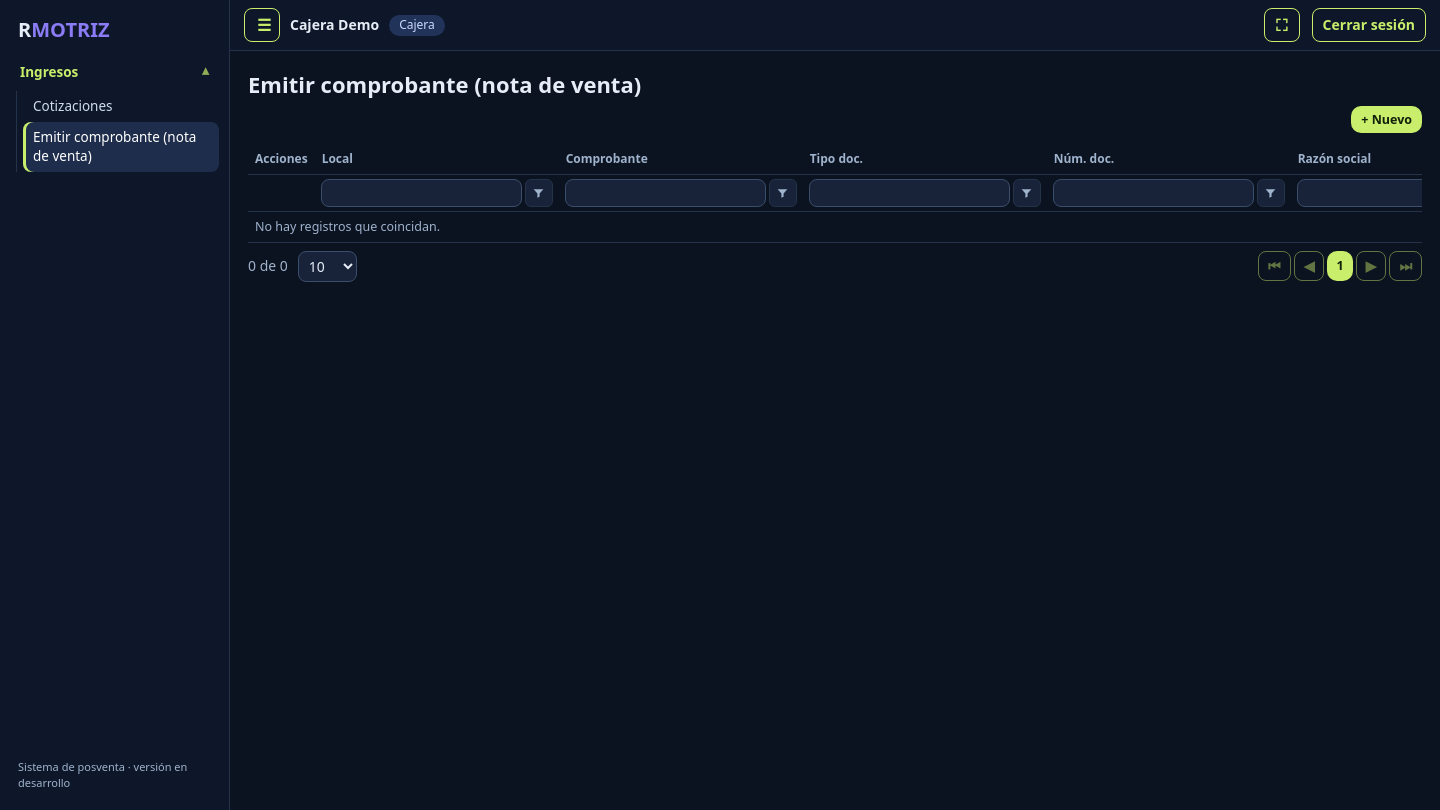
Test: Emitir comprobante: carga los ítems de una cotización vigente, con su cliente
Step 1. Click the button "+ Nuevo" → [1387, 120], box top-left (1351, 106), bottom-right (1422, 133)
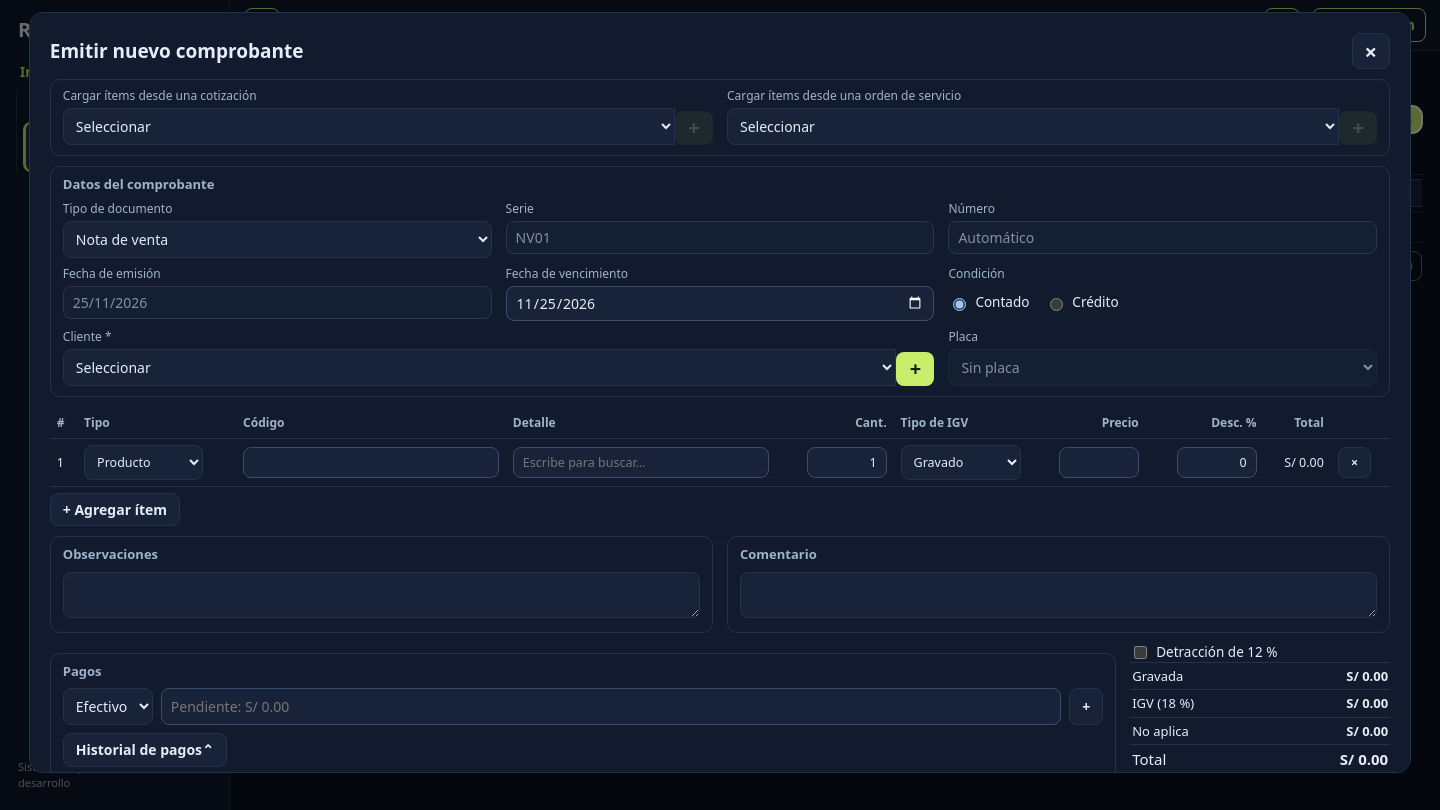
Step 2. Select "COT-000001 · JOAQUIN DEL CARPIO · S/ 118.00" in the dropdown labelled "Cargar ítems desde una cotización" → [369, 126], box top-left (63, 108), bottom-right (675, 145)
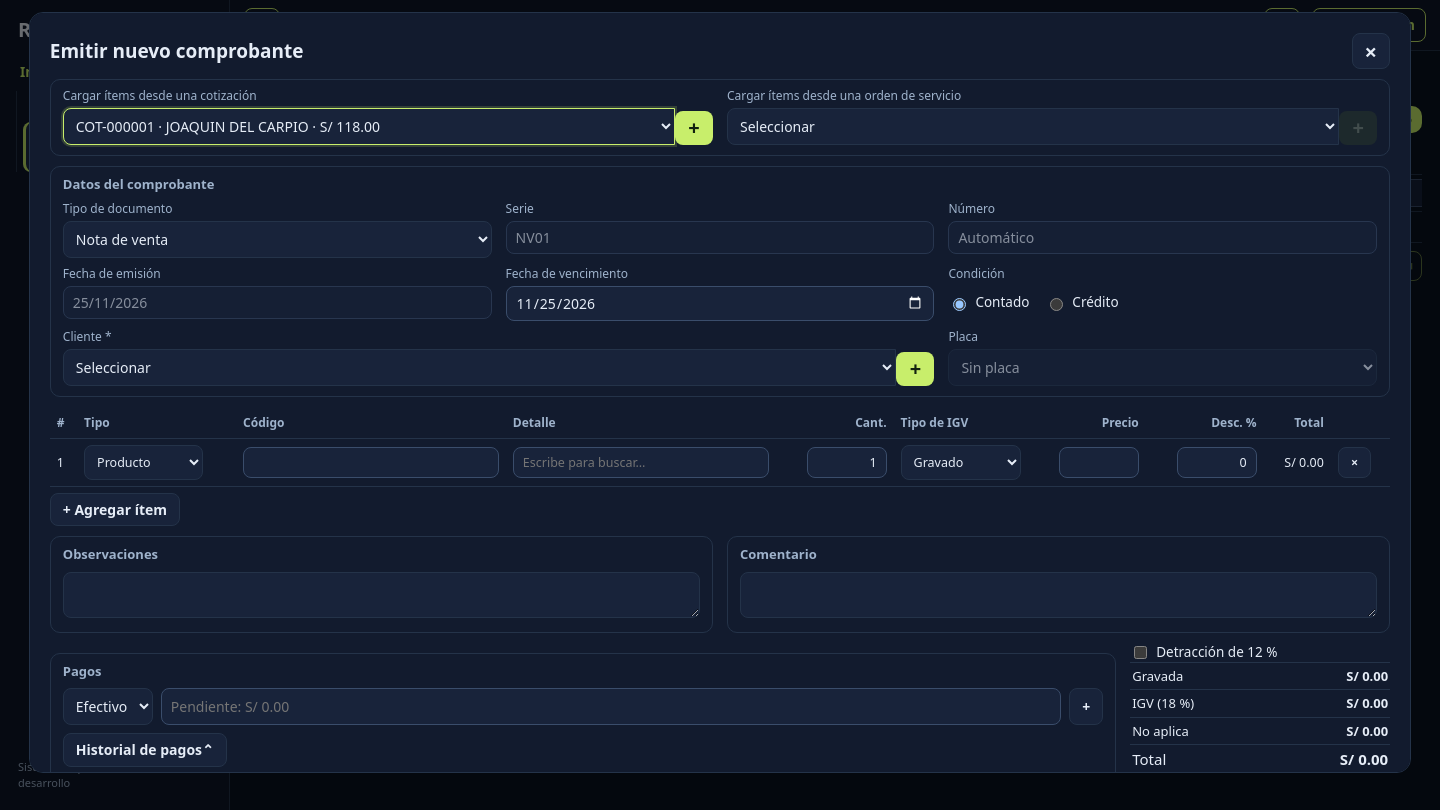
Step 3. Click the button named "Agregar los ítems de la cotización" → [694, 128], box top-left (675, 111), bottom-right (713, 145)
(page scrolled)
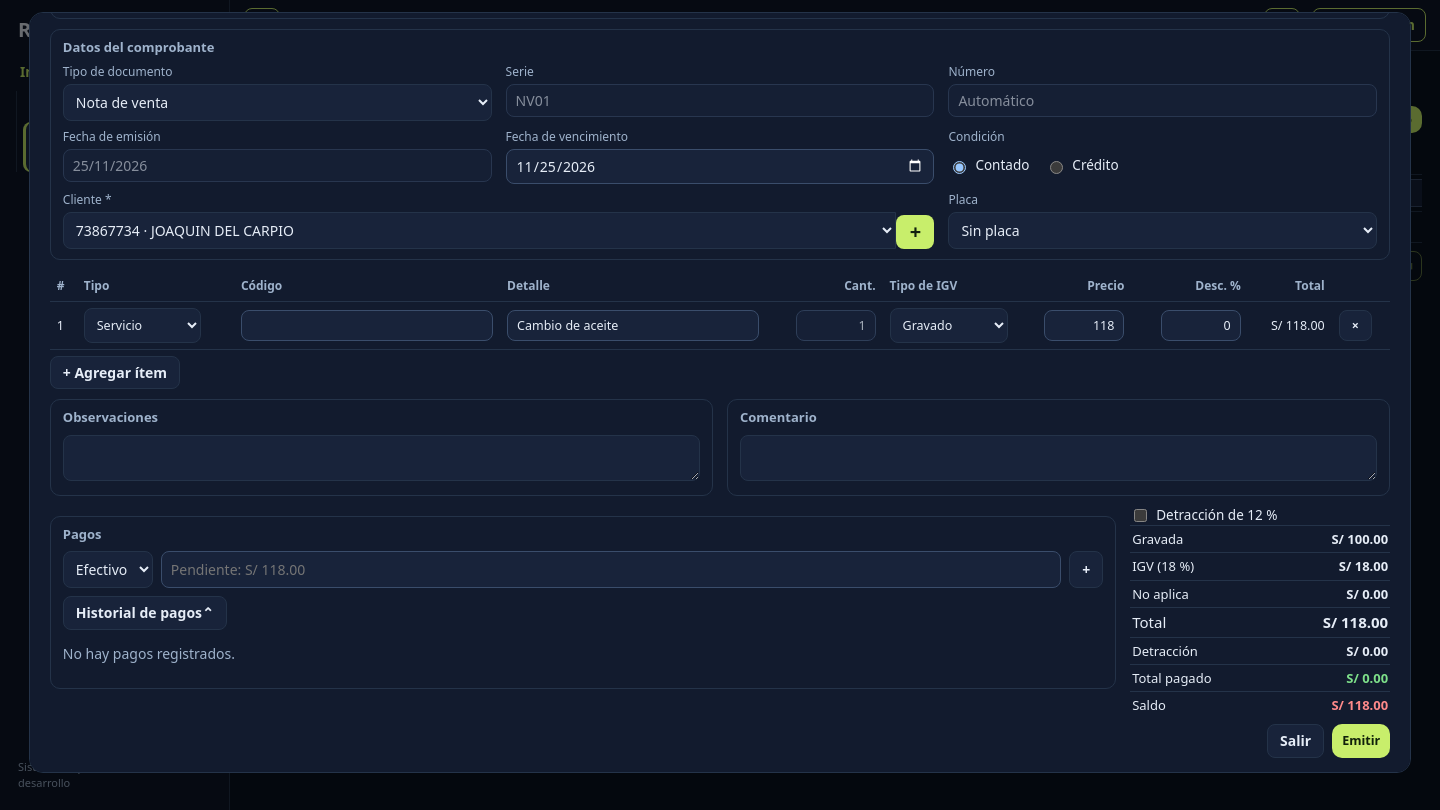
Check: the field named "Detalle del ítem 1" holds "Cambio de aceite", box top-left (507, 310), bottom-right (759, 341)
Check: the dropdown labelled "Cliente *" shows "73867734 · JOAQUIN DEL CARPIO", box top-left (63, 212), bottom-right (896, 249)
Check: the element named "Totales" shows "Total S/ 118.00", box top-left (1130, 525), bottom-right (1390, 718)
